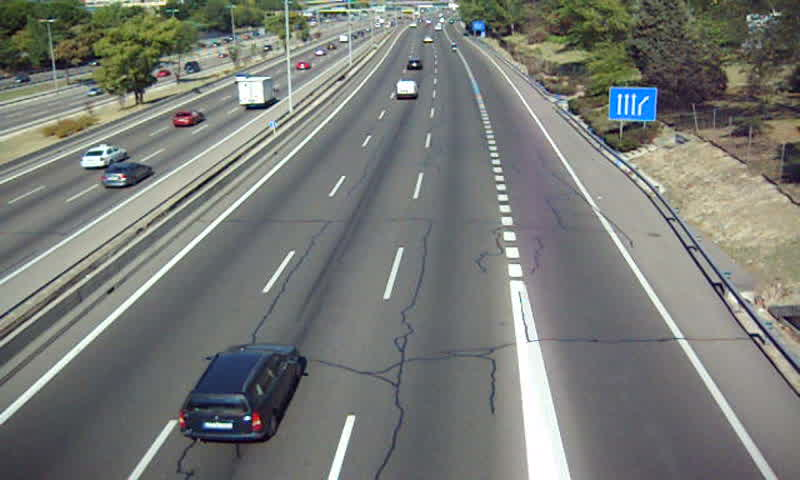car: (177, 345, 301, 444), (406, 58, 424, 70)
van: (394, 80, 419, 100)
